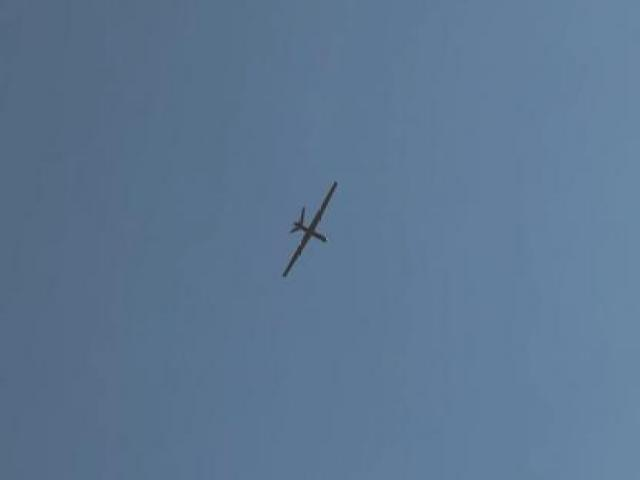uav: (272, 174, 348, 283)
